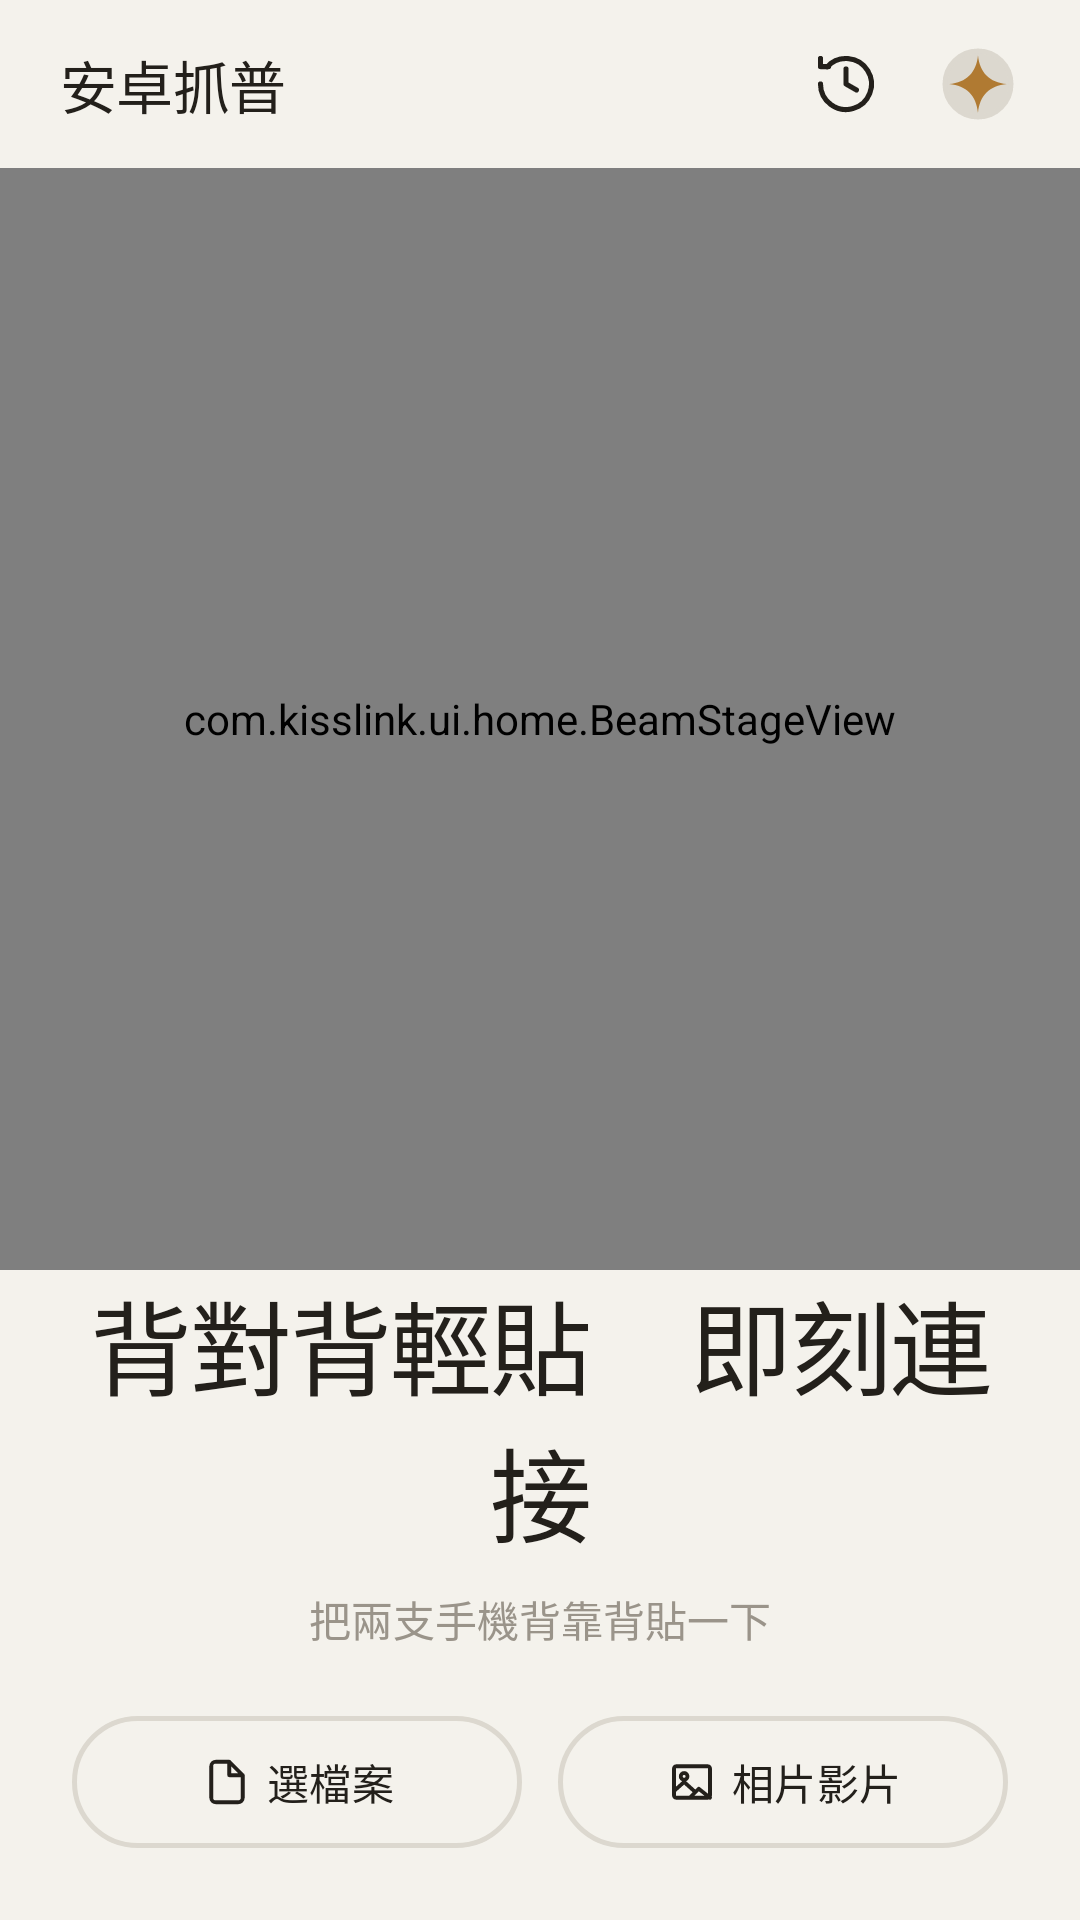

Screen size 1080 × 1920. Icon name, then its center in pixels as [x,y]:
傳輸紀錄: [846,84]
